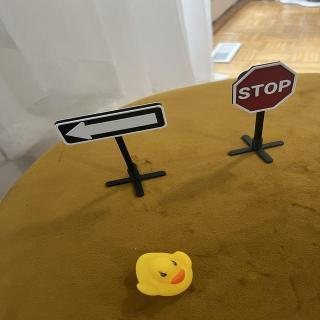duck_regular: (135, 249, 195, 298)
sign_oneway_left: (55, 105, 170, 148)
sign_stop: (233, 63, 305, 115)
